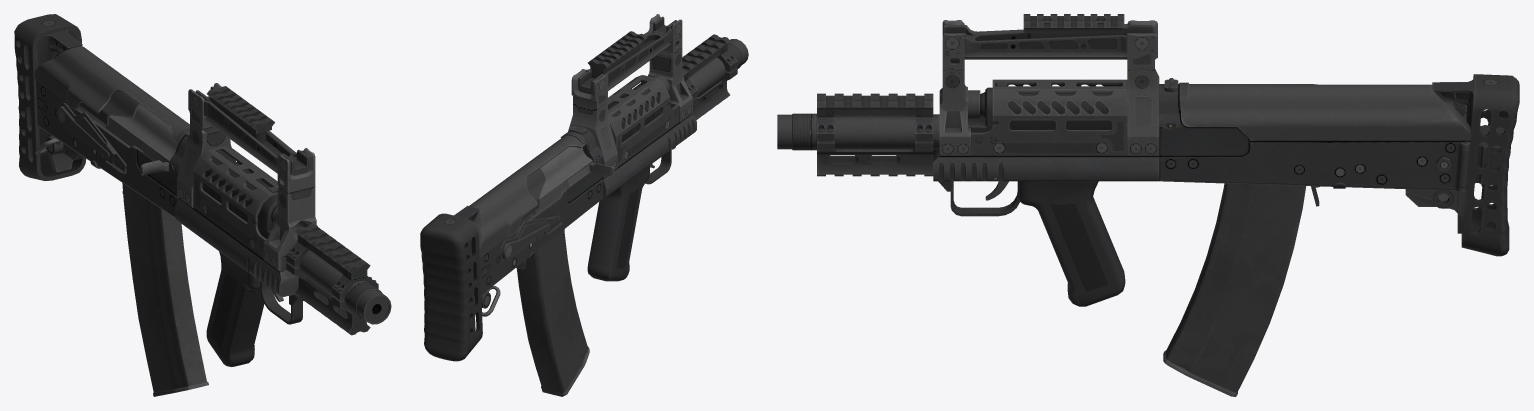
The model's file is raw.glb.
3 views of the same model, side by side, from view 1: azimuth 30°, elevation 25°; view 2: azimuth 150°, elevation 25°; view 3: azimuth 270°, elevation 25° (orthographic). The views are drawn at different scales.
Parts seen in each view (by area): view 1: ots14_LOD0; view 2: ots14_LOD0; view 3: ots14_LOD0.
Boxes of the visible parts, bbox=[...] form: ots14_LOD0: bbox=[14, 14, 391, 396]; ots14_LOD0: bbox=[420, 14, 748, 396]; ots14_LOD0: bbox=[777, 14, 1519, 396].
Bounding box in the file's own units: 0.0715 × 0.3069 × 0.5537.
1 material, 1 textured.
